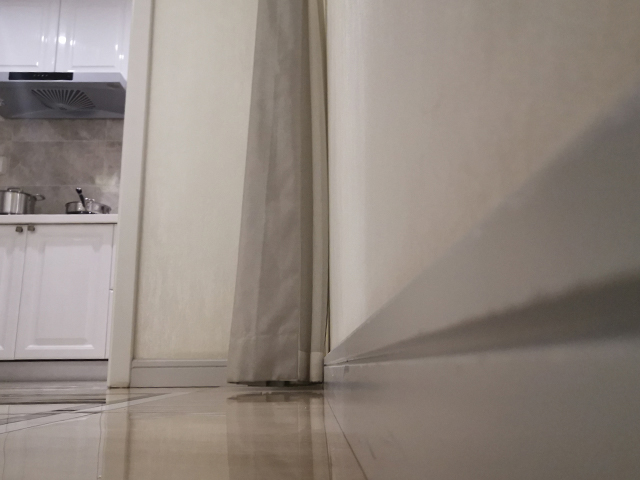cabinet: (1, 213, 120, 385)
curtain: (224, 1, 331, 389)
